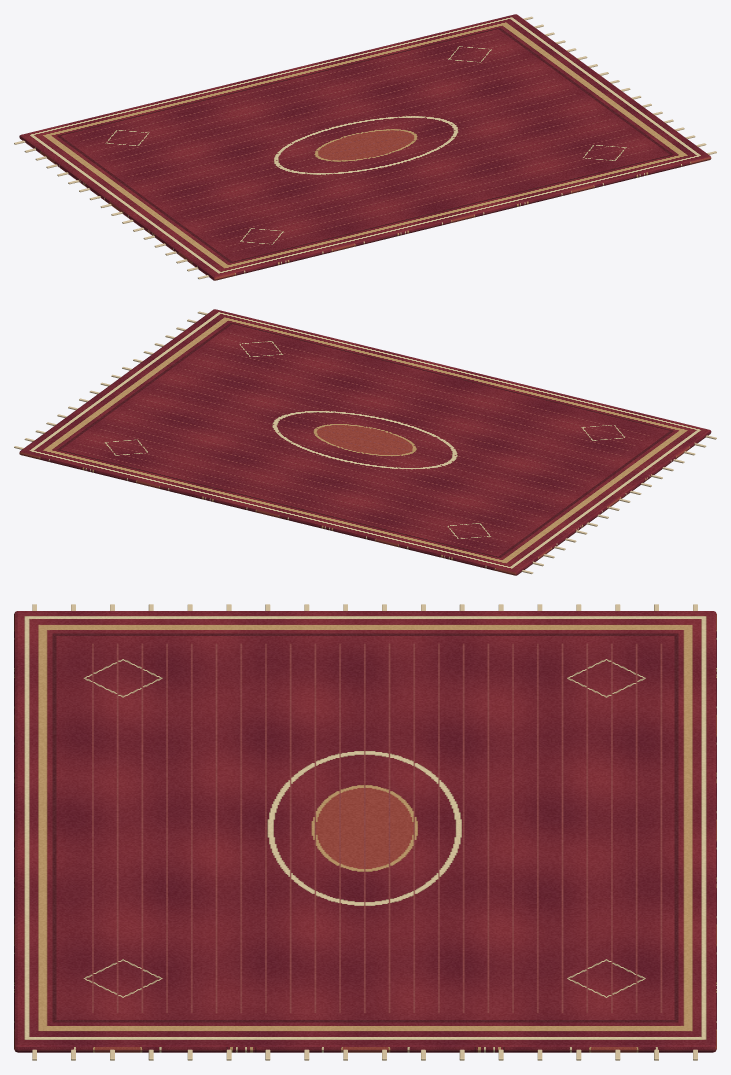
The model's file is cabin_rug.glb.
3 views of the same model, one above another, from view 1: azimuth 30°, elevation 25°; view 2: azimuth 150°, elevation 25°; view 3: azimuth 270°, elevation 25° (orthographic). The views are drawn at different scales.
Visible parts, largest first — view 1: rug; view 2: rug; view 3: rug.
Part boxes in pixels (bbox=[...]): rug: bbox=[19, 14, 711, 280]; rug: bbox=[19, 309, 711, 575]; rug: bbox=[14, 611, 716, 1052].
Bounding box in the file's own units: 2.6 × 0.02 × 1.7.
2 materials, 1 textured.
